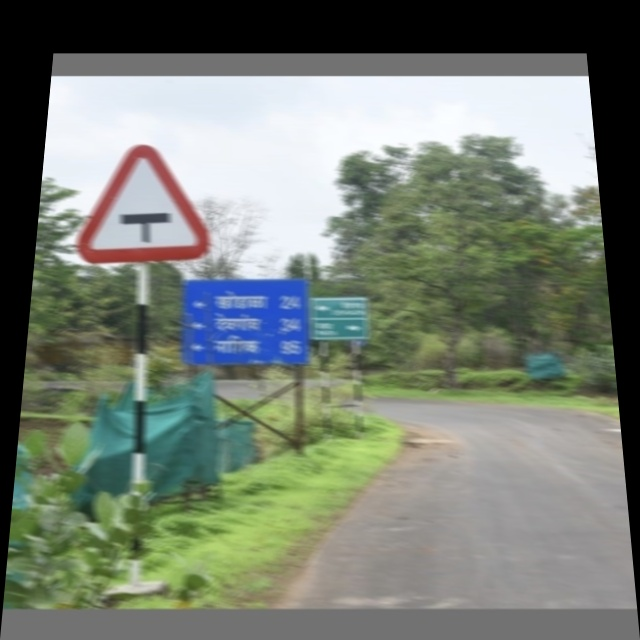T_Intersection: (76, 137, 219, 268)
